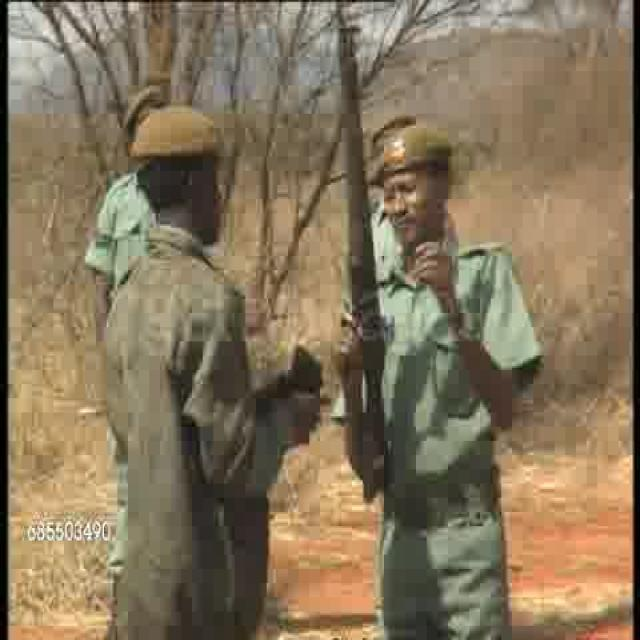poacher: (344, 104, 556, 596), (109, 98, 260, 568)
weapon: (340, 26, 384, 506)
